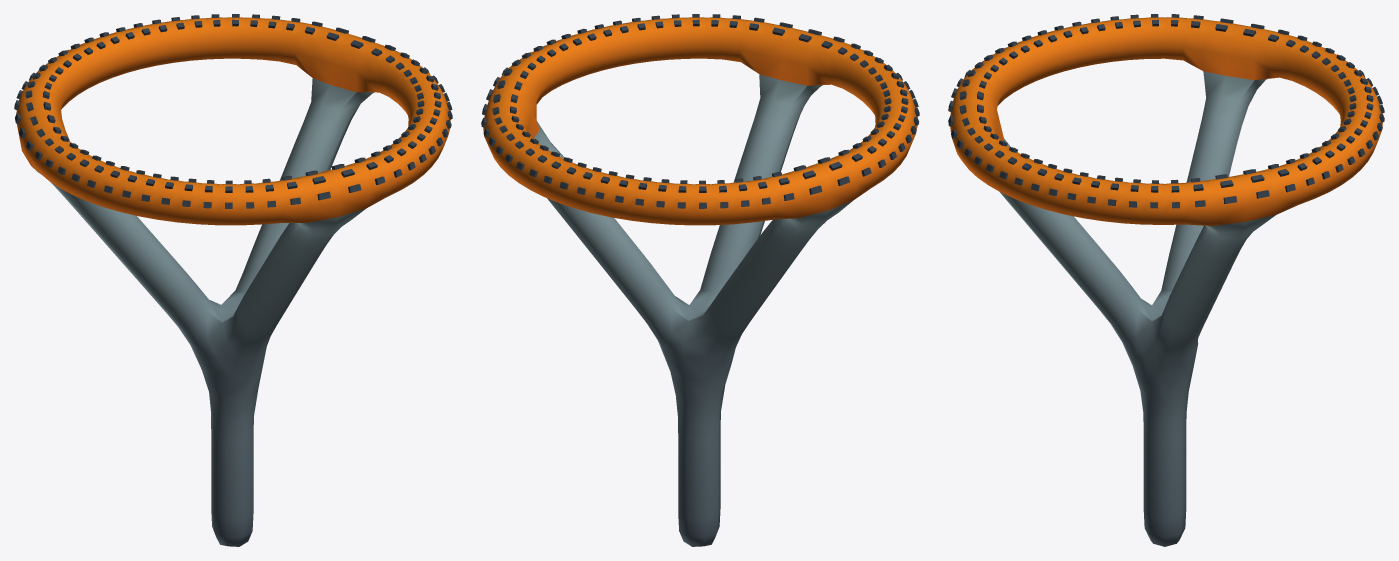
The model's file is Sprinkler.fbx.
3 renders of one model, left to right at view 1: azimuth 30°, elevation 25°; view 2: azimuth 150°, elevation 25°; view 3: azimuth 270°, elevation 25°, orthographic.
Parts seen in each view (by area): view 1: Sprinkler; view 2: Sprinkler; view 3: Sprinkler.
Part boxes in pixels (x1,y1,x2,y2): Sprinkler: (14,14,452,546); Sprinkler: (481,14,919,546); Sprinkler: (948,14,1384,546).
Bounding box in the file's own units: 0.2237 × 0.25 × 0.2221.
